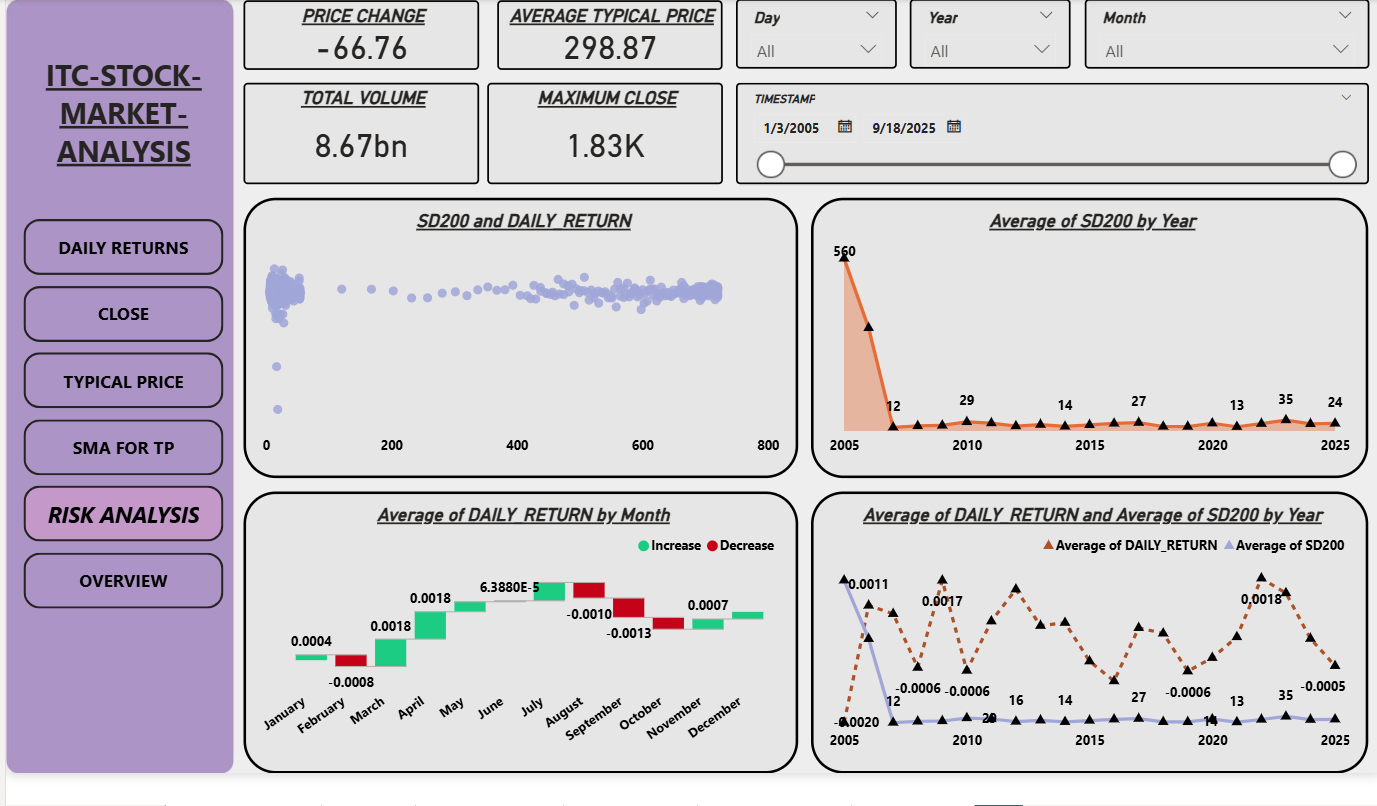

This screenshot's page, from the dashboard's own definition file:
{"tool":"powerbi","page":{"name":"RISK ANALYSIS","canvas":[1280,720],"ordinal":4},"visuals":[{"type":"scatterChart","fields":{"X":["FINAL_ITC_STOCK_UPDATED_TABLE.SD200"],"Y":["FINAL_ITC_STOCK_UPDATED_TABLE.DAILY_RETURN"]},"box":[220.9,185.2,516,260.7],"z":0},{"type":"waterfallChart","fields":{"Category":["FINAL_ITC_STOCK_UPDATED_TABLE.TIMESTAMP.Variation.Date Hierarchy.Month"],"Y":["Avg(FINAL_ITC_STOCK_UPDATED_TABLE.DAILY_RETURN)"]},"box":[220.9,458.3,516,262.1],"z":1000},{"type":"lineChart","fields":{"Category":["FINAL_ITC_STOCK_UPDATED_TABLE.TIMESTAMP.Variation.Date Hierarchy.Year"],"Y":["Avg(FINAL_ITC_STOCK_UPDATED_TABLE.DAILY_RETURN)"],"Y2":["Avg(FINAL_ITC_STOCK_UPDATED_TABLE.SD200)"]},"box":[749.2,458.3,518.7,262.1],"z":2000},{"type":"areaChart","fields":{"Category":["FINAL_ITC_STOCK_UPDATED_TABLE.TIMESTAMP.Variation.Date Hierarchy.Year"],"Y":["Avg(FINAL_ITC_STOCK_UPDATED_TABLE.SD200)"]},"box":[749.2,185.2,518.7,260.7],"z":3000},{"type":"textbox","box":[16.5,48,186.6,124.9],"z":4000},{"type":"pageNavigator","box":[16.5,204.5,186.6,362],"z":5000},{"type":"card","title":"TOTAL VOLUME","fields":{"Values":["Sum(FINAL_ITC_STOCK_UPDATED_TABLE.VOLUME)"]},"box":[220.9,78.2,219.6,94.7],"z":6000},{"type":"card","title":"AVERAGE TYPICAL PRICE","fields":{"Values":["Avg(FINAL_ITC_STOCK_UPDATED_TABLE.TYPICAL_PRICE)"]},"box":[456.9,1.4,209.9,64.5],"z":7000},{"type":"slicer","fields":{"Values":["FINAL_ITC_STOCK_UPDATED_TABLE.TIMESTAMP.Variation.Date Hierarchy.Year"]},"box":[841.2,0,149.6,64.5],"z":8000},{"type":"slicer","fields":{"Values":["FINAL_ITC_STOCK_UPDATED_TABLE.TIMESTAMP.Variation.Date Hierarchy.Month"]},"box":[1003.1,0,264.8,64.5],"z":9000},{"type":"slicer","fields":{"Values":["FINAL_ITC_STOCK_UPDATED_TABLE.TIMESTAMP.Variation.Date Hierarchy.Day"]},"box":[679.2,0,149.6,64.5],"z":10000},{"type":"card","title":"MAXIMUM CLOSE","fields":{"Values":["Max(FINAL_ITC_STOCK_UPDATED_TABLE.CLOSE)"]},"box":[447.3,78.2,219.6,94.7],"z":11000},{"type":"card","title":"PRICE CHANGE","fields":{"Values":["FINAL_ITC_STOCK_UPDATED_TABLE.Price_Change%"]},"box":[220.9,1.4,219.6,64.5],"z":12000},{"type":"slicer","fields":{"Values":["FINAL_ITC_STOCK_UPDATED_TABLE.TIMESTAMP"]},"box":[679.2,78.2,588.7,94.7],"z":13000}]}

Visuals, with their boxes on the page's 1280x720 design canvas (x1, y1, x2, y2). These are canvas units, not pixel positions in the 1377x806 screenshot, which may show the page scaled, cropped or inside an application window:
scatterChart - FINAL_ITC_STOCK_UPDATED_TABLE.SD200 x FINAL_ITC_STOCK_UPDATED_TABLE.DAILY_RETURN: 221, 185, 737, 446
waterfallChart - FINAL_ITC_STOCK_UPDATED_TABLE.TIMESTAMP.Variation.Date Hierarchy.Month x Avg(FINAL_ITC_STOCK_UPDATED_TABLE.DAILY_RETURN): 221, 458, 737, 720
lineChart - FINAL_ITC_STOCK_UPDATED_TABLE.TIMESTAMP.Variation.Date Hierarchy.Year x Avg(FINAL_ITC_STOCK_UPDATED_TABLE.DAILY_RETURN): 749, 458, 1268, 720
areaChart - FINAL_ITC_STOCK_UPDATED_TABLE.TIMESTAMP.Variation.Date Hierarchy.Year x Avg(FINAL_ITC_STOCK_UPDATED_TABLE.SD200): 749, 185, 1268, 446
textbox: 16, 48, 203, 173
pageNavigator: 16, 204, 203, 566
"TOTAL VOLUME" card: 221, 78, 440, 173
"AVERAGE TYPICAL PRICE" card: 457, 1, 667, 66
slicer - FINAL_ITC_STOCK_UPDATED_TABLE.TIMESTAMP.Variation.Date Hierarchy.Year: 841, 0, 991, 64
slicer - FINAL_ITC_STOCK_UPDATED_TABLE.TIMESTAMP.Variation.Date Hierarchy.Month: 1003, 0, 1268, 64
slicer - FINAL_ITC_STOCK_UPDATED_TABLE.TIMESTAMP.Variation.Date Hierarchy.Day: 679, 0, 829, 64
"MAXIMUM CLOSE" card: 447, 78, 667, 173
"PRICE CHANGE" card: 221, 1, 440, 66
slicer - FINAL_ITC_STOCK_UPDATED_TABLE.TIMESTAMP: 679, 78, 1268, 173
